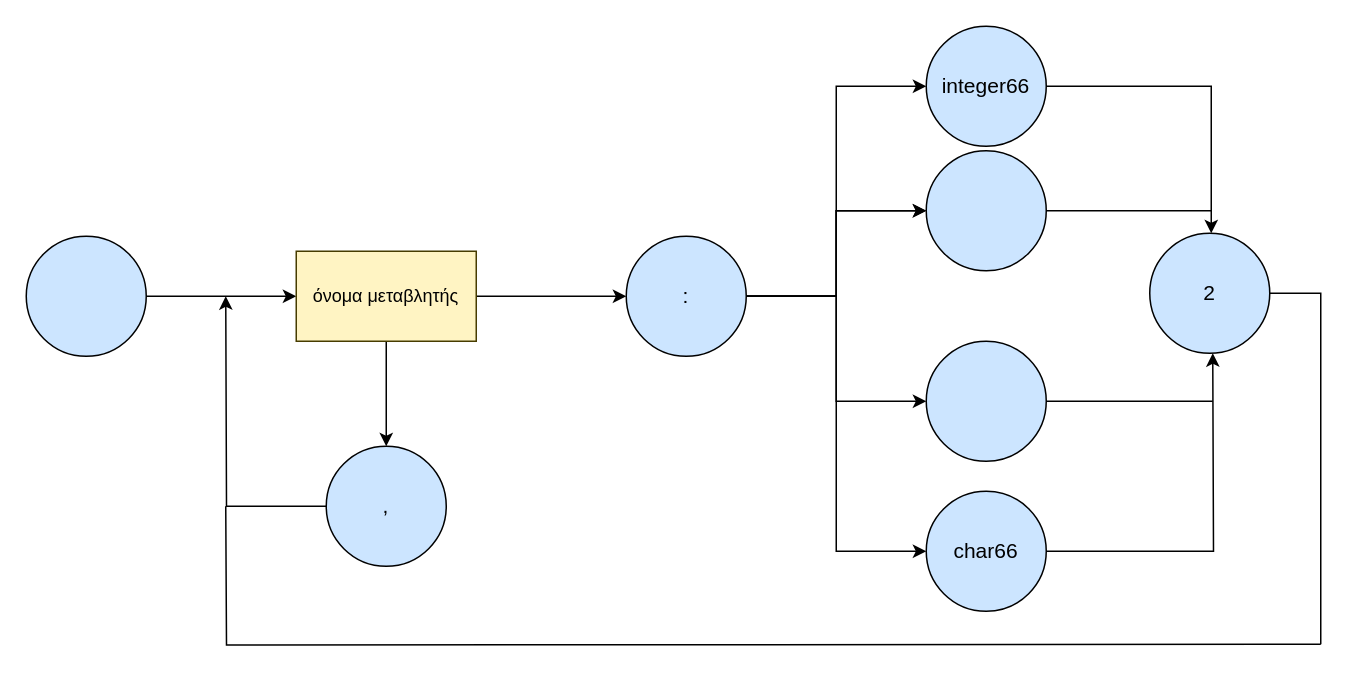
The diagram is 1349 pixels wide and 674 high, and some of its shapes have lost their labels. The shapes that lost their labels are listed below. From the top down, each one's box as (x1, y1, x2, y2) in pixels, then its label:
(925, 149, 1046, 271): real66
(25, 235, 146, 356): var
(925, 340, 1046, 461): boolean66
